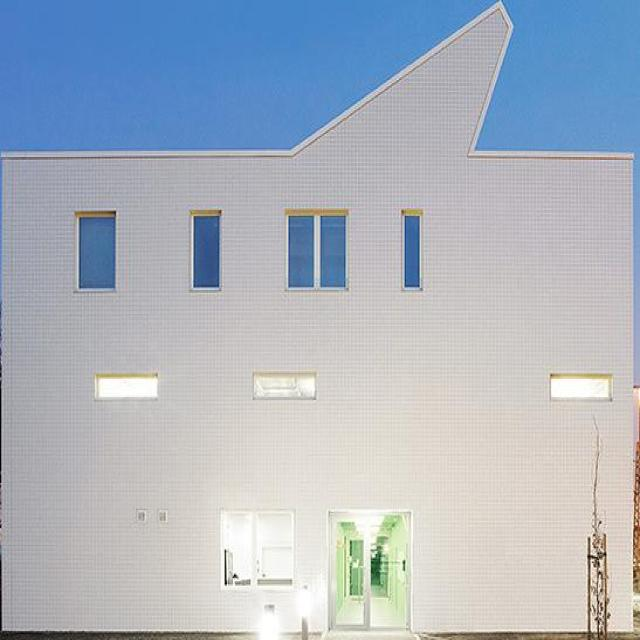door: (328, 511, 414, 636)
wall: (2, 0, 634, 635)
windows: (223, 508, 295, 590), (287, 212, 349, 289), (76, 213, 115, 290), (192, 212, 218, 288), (552, 375, 612, 404), (254, 372, 318, 397), (95, 374, 158, 399), (402, 212, 420, 290)
